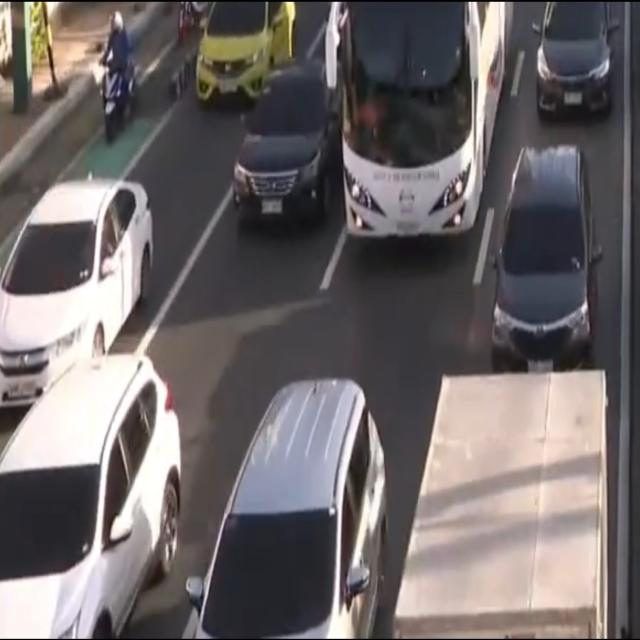Bus: (338, 0, 512, 245)
Motorcycle: (98, 6, 140, 139)
SUV: (188, 375, 390, 640), (0, 354, 180, 640), (491, 144, 601, 369), (228, 63, 336, 233)
Sedan: (0, 172, 156, 401), (193, 0, 294, 110)
Truck: (393, 370, 612, 640)
